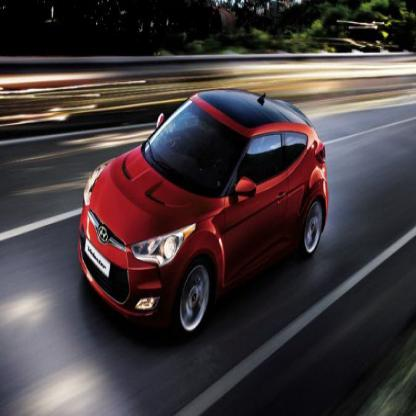Vehicle: (66, 77, 339, 349)
